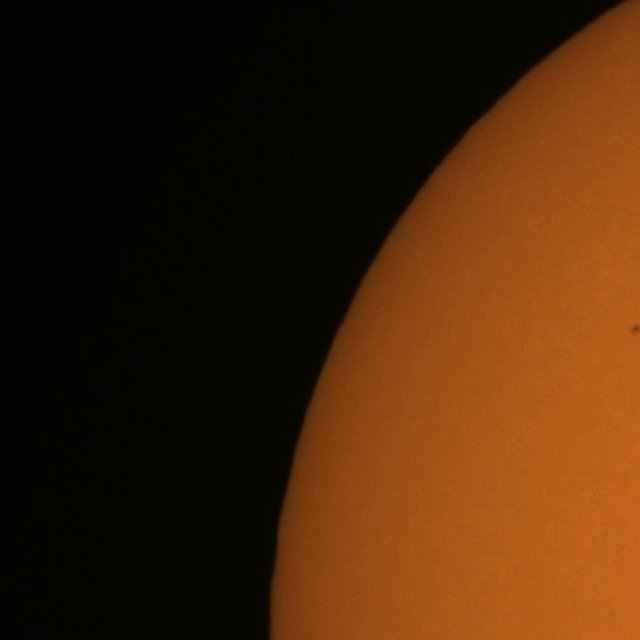sunspot: (628, 322, 640, 339)
